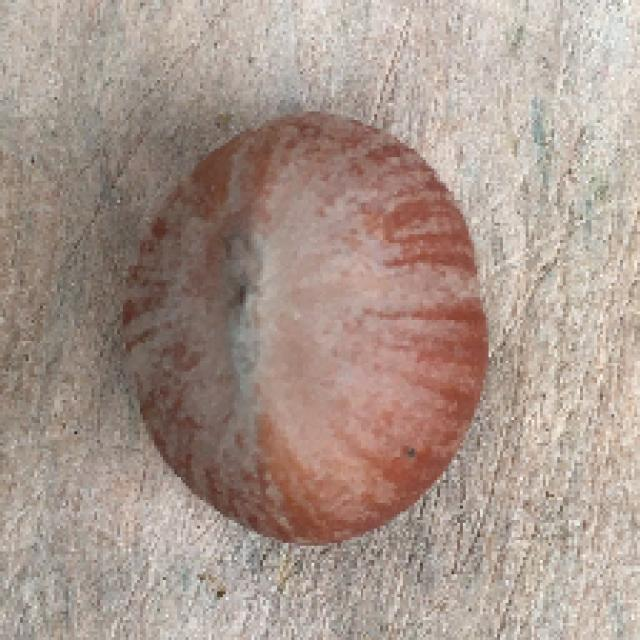qualityHazelnut: (110, 108, 491, 552)
